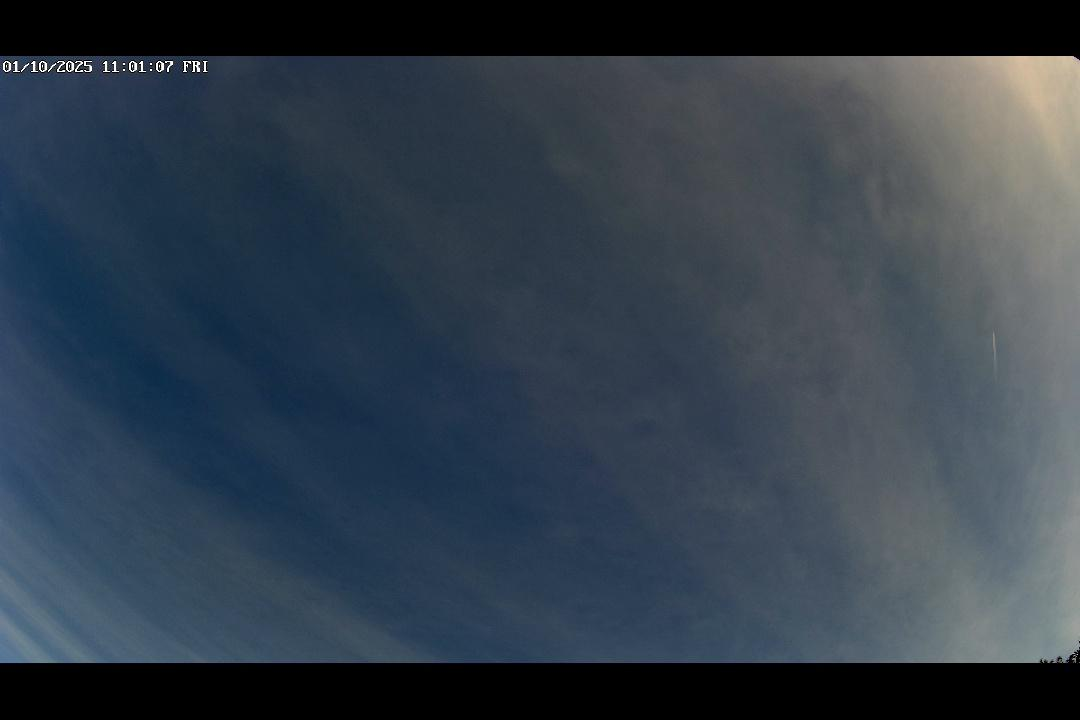Plane: (991, 330, 1001, 373)
